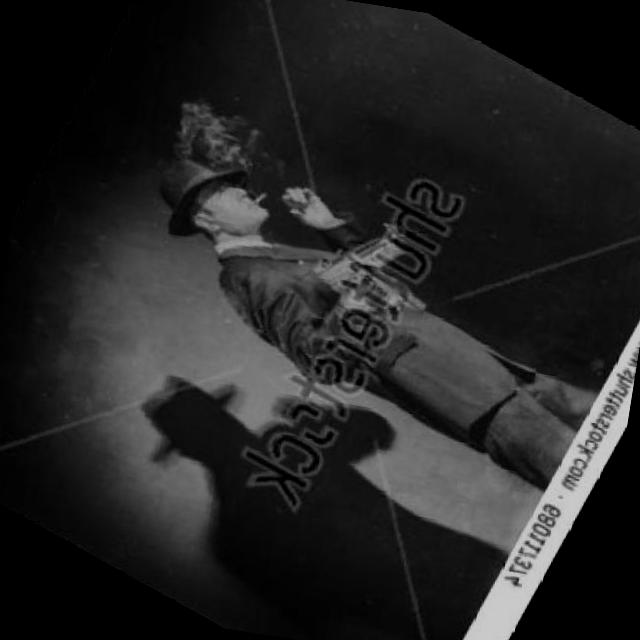smoke: (245, 190, 270, 216)
